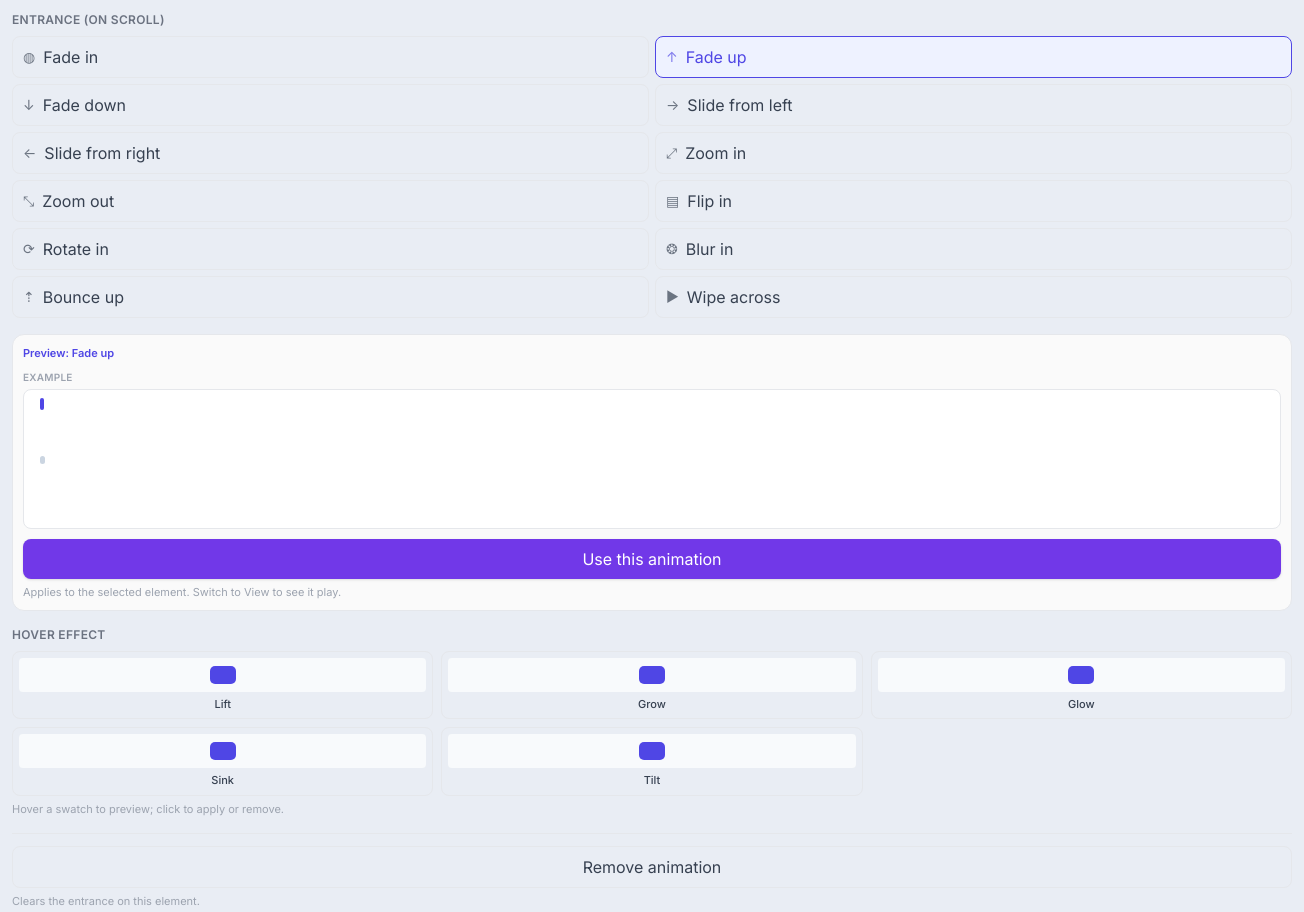
HTML mode, with an element selected › says when the selected element already carries the pick
Click the button "⤢ Zoom in" at x=716, y=153, box left=655, top=132, right=1292, bottom=174
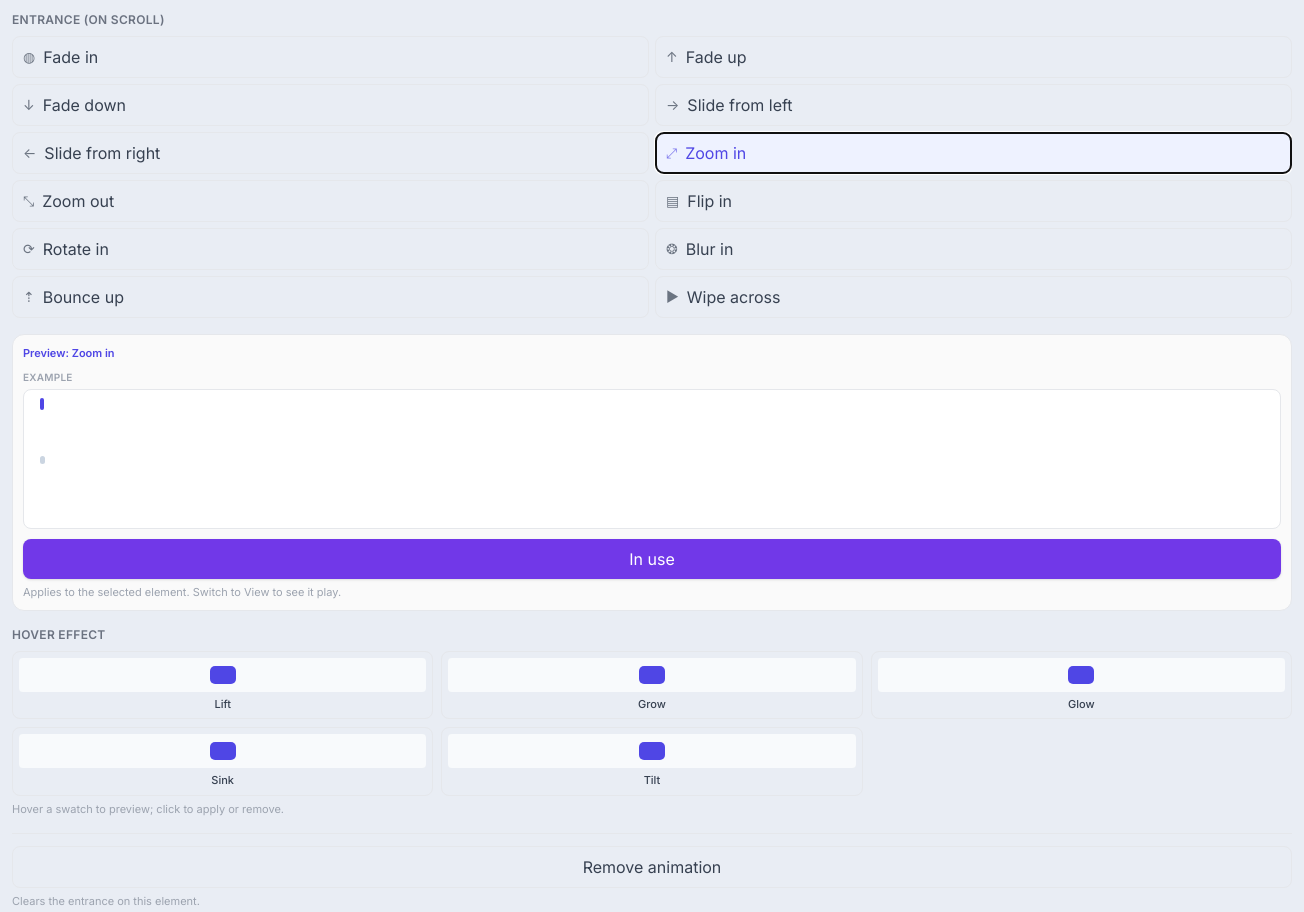
Now the button "In use" is shown, box left=23, top=538, right=1281, bottom=578
